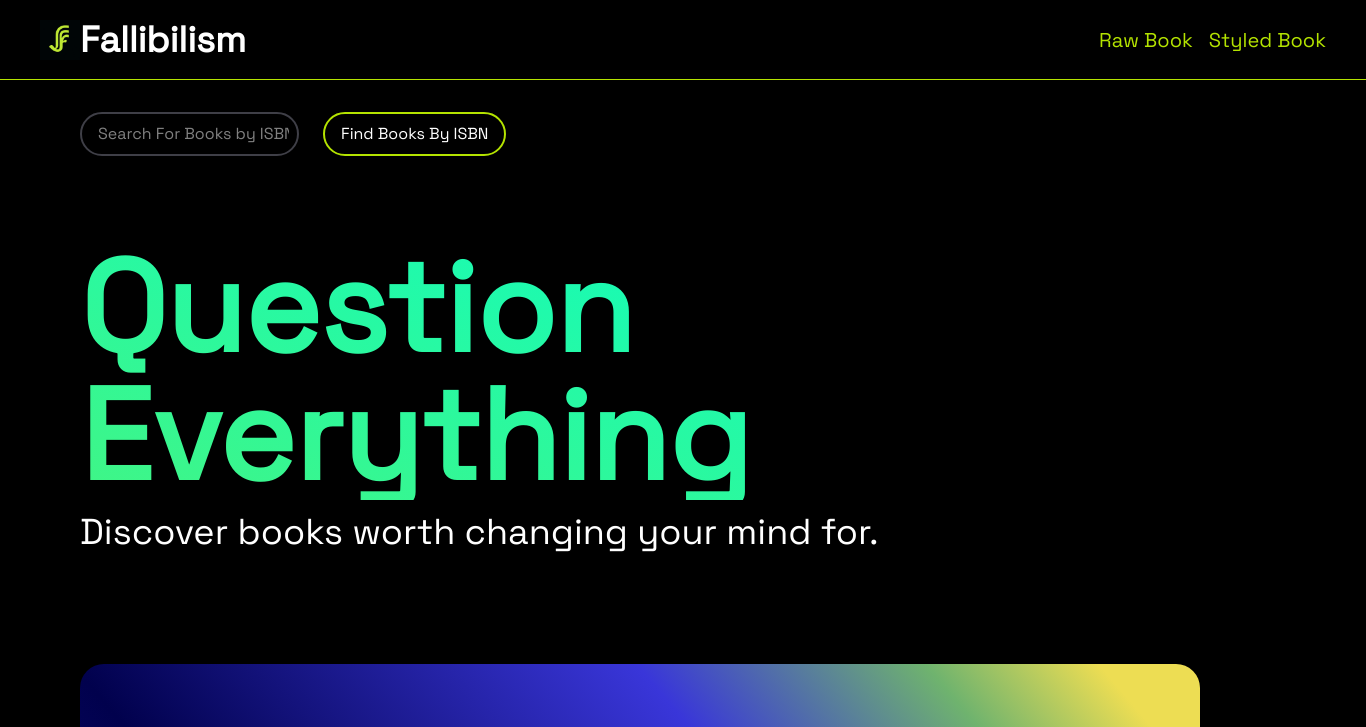
Test: How To Guide › Opens no books found display
Click the link "Raw Book": (1146, 40) left=1099, top=26, right=1193, bottom=54
(page scrolled)
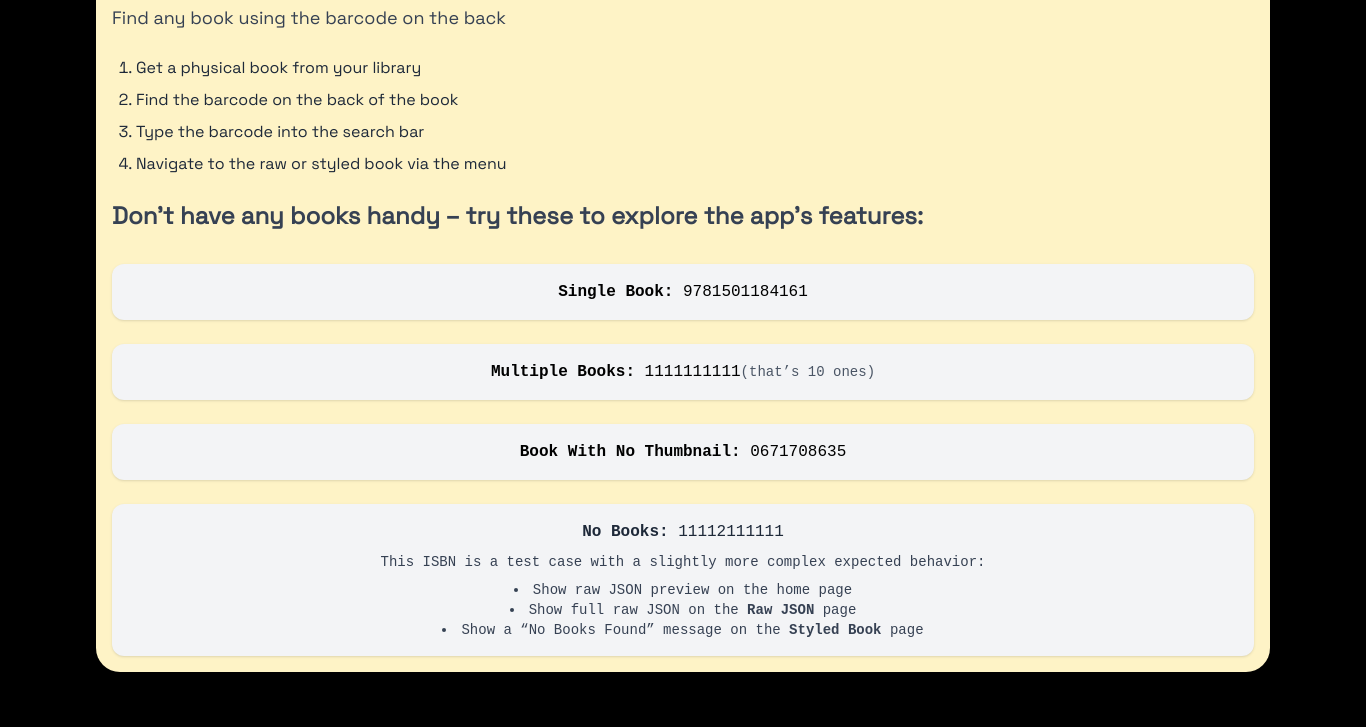
expect the list item "Get a physical book from your library" is shown: met, box left=136, top=57, right=421, bottom=78
Click the button with test id "no-books-found-button": (683, 580) left=112, top=504, right=1254, bottom=656
(page scrolled)
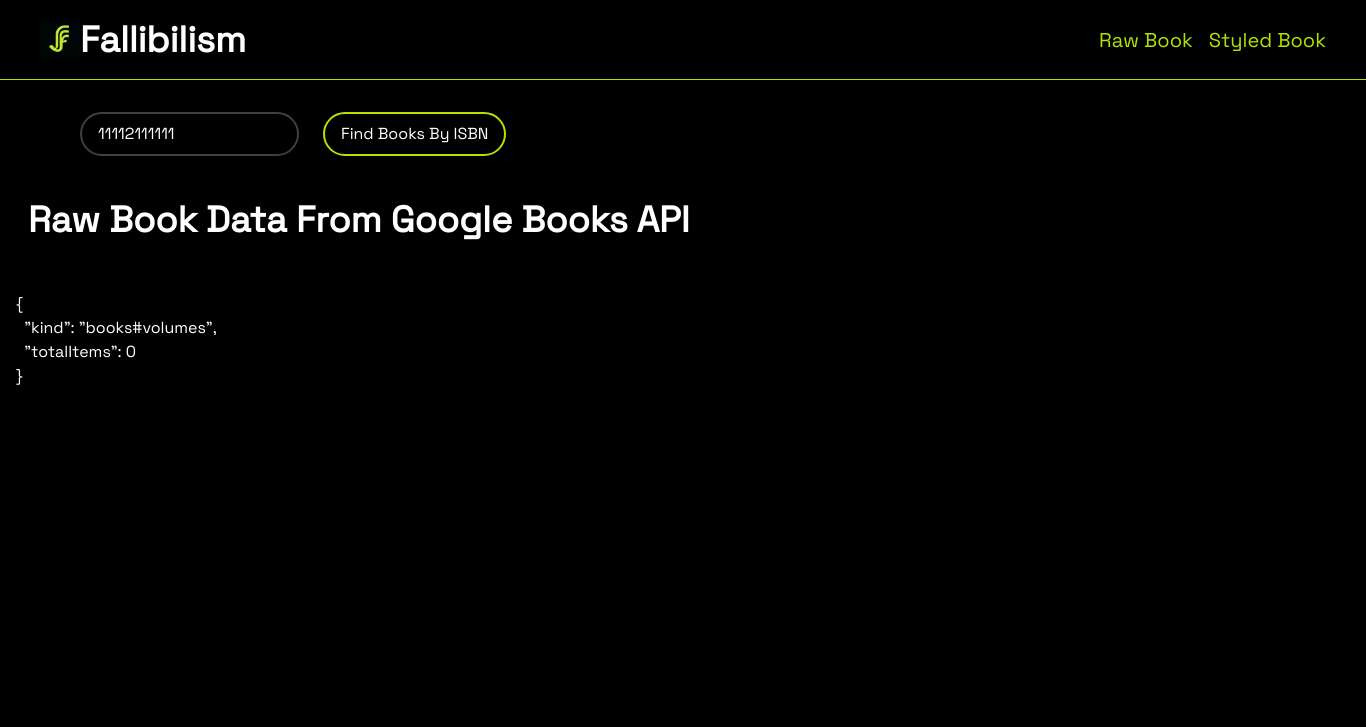
expect the text "{ \"kind\": \"books#volumes\", \"totalItems\": 0 }" is shown: met, box left=16, top=293, right=217, bottom=386
